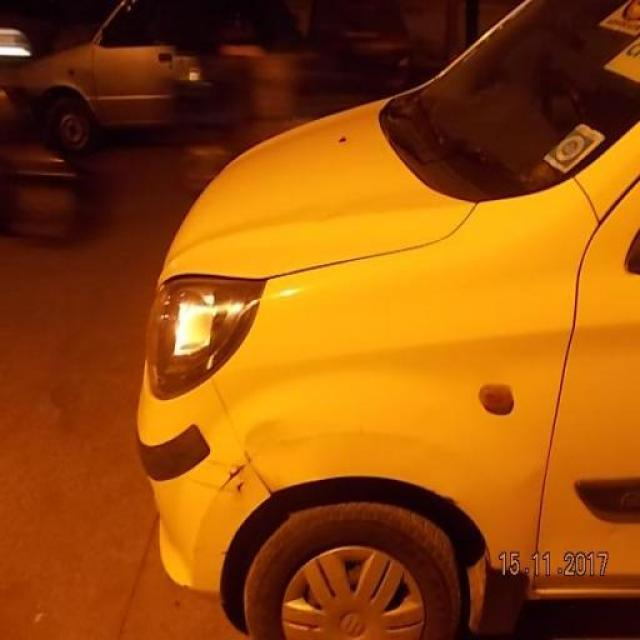dent: (247, 421, 294, 472)
scratch: (215, 452, 256, 502)
